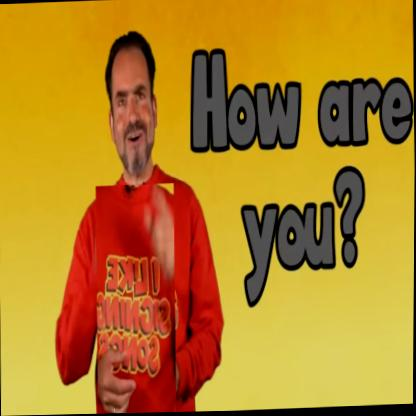HowAreYou: (95, 183, 178, 414)
